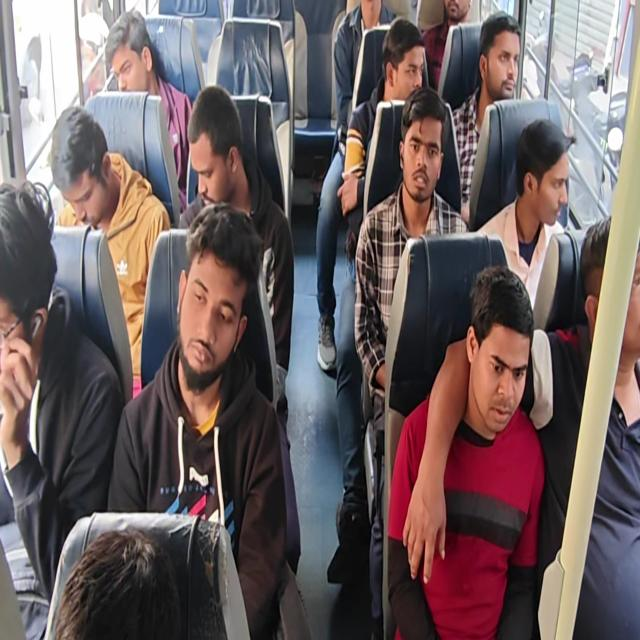person: (38, 525, 228, 640), (172, 204, 247, 400), (2, 168, 48, 463), (463, 268, 531, 422), (175, 78, 252, 209), (581, 215, 640, 385), (42, 95, 116, 224), (515, 111, 586, 231), (396, 98, 451, 216), (477, 8, 530, 104), (103, 13, 157, 97), (381, 8, 428, 98), (440, 0, 471, 19)
